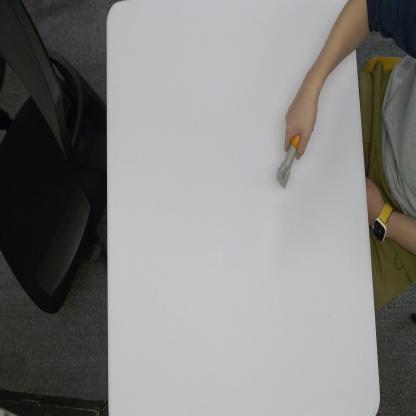Arm: (316, 0, 361, 96)
Hammer: (276, 133, 301, 189)
Hand: (284, 75, 318, 160)
